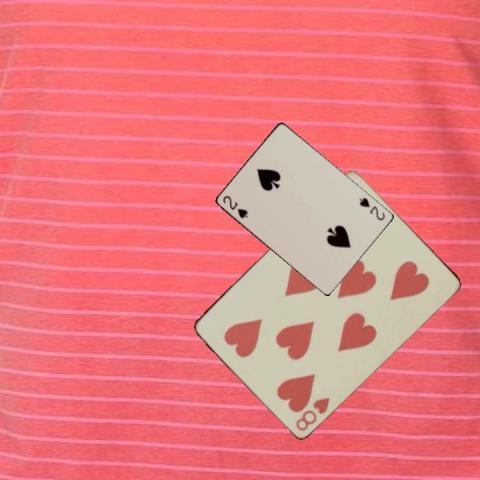2s: (219, 193, 249, 220), (356, 195, 386, 222)
8h: (293, 393, 331, 432)
